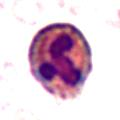neutrophil: (28, 21, 92, 101)
